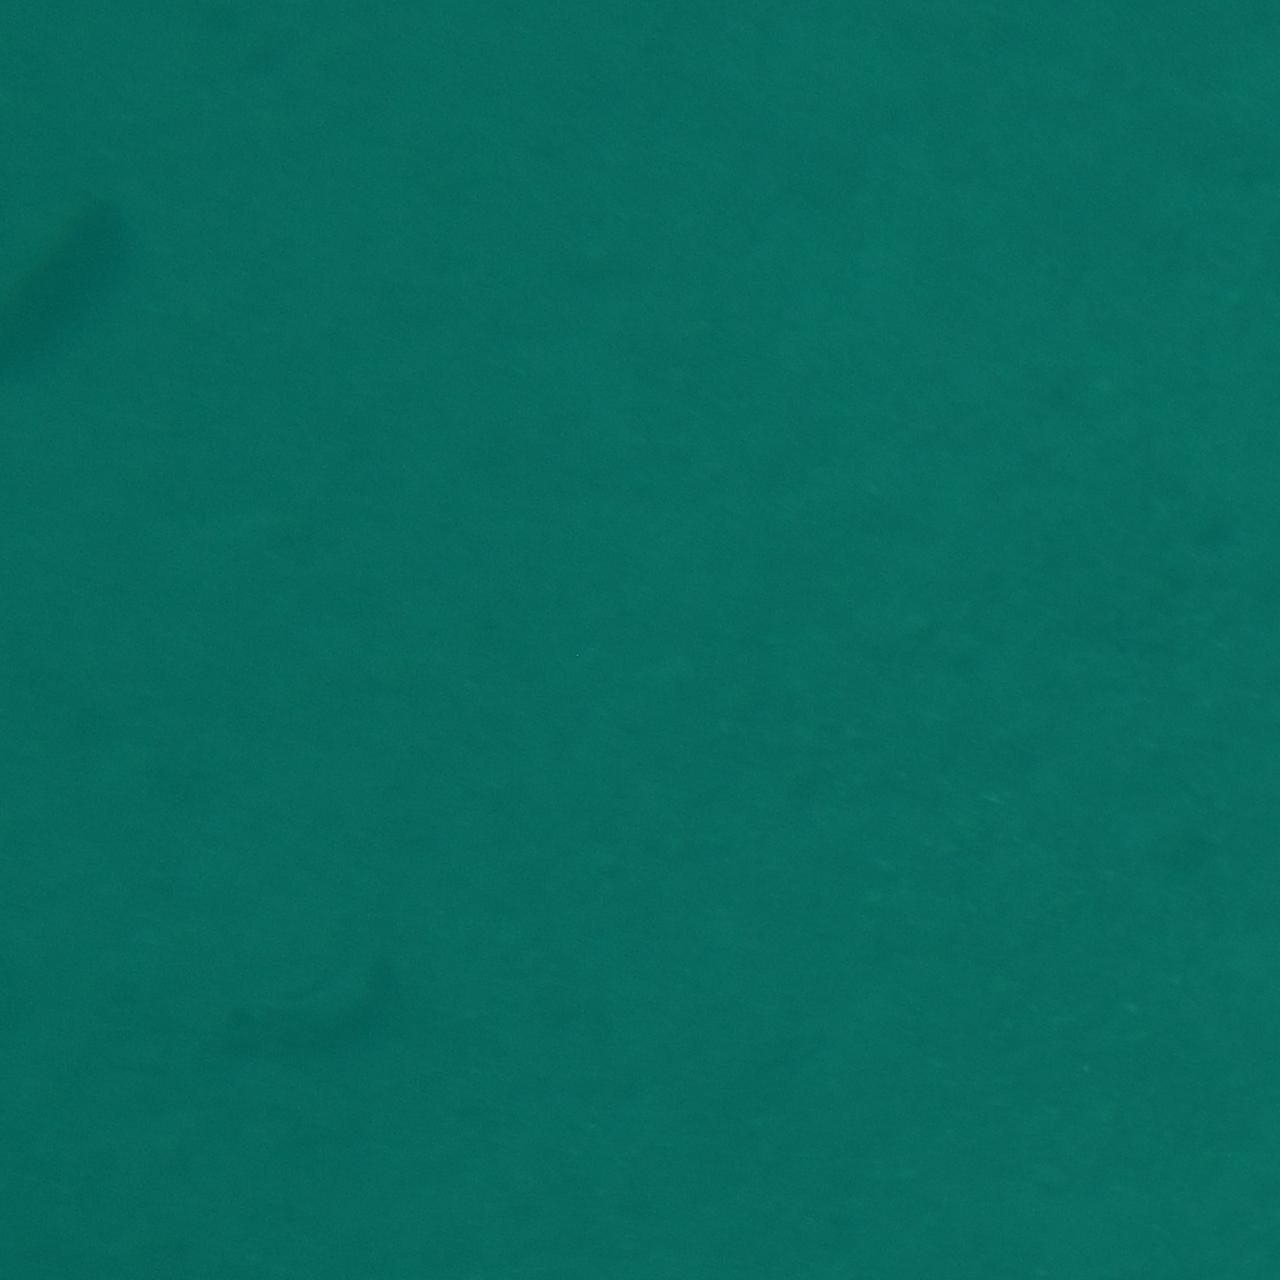Holothuria tubulosa: (170, 912, 424, 1065), (0, 181, 141, 401)
